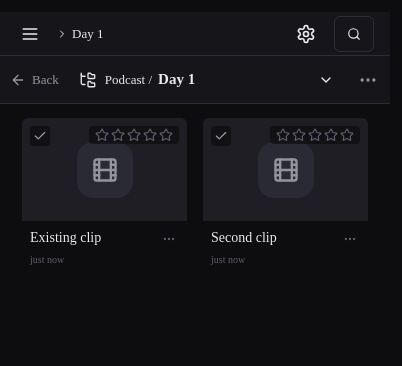
Test case: §230 item 3 — the toolbar collapses, nothing becomes unreachable › Upload, New Folder, Share, Members and Project settings are in the `···`
The image size is (402, 366).
Click the button with test id "project-actions-menu".
click(368, 80)  # box [346, 58, 390, 102]
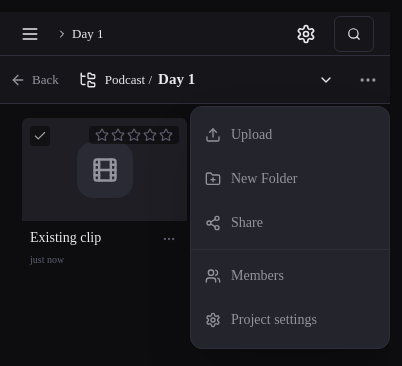
expect the menu item "Upload" is shown: met, box [205, 127, 272, 143]
expect the menu item "New Folder" is shown: met, box [205, 171, 298, 187]
expect the menu item "Share" is shown: met, box [205, 215, 263, 231]
